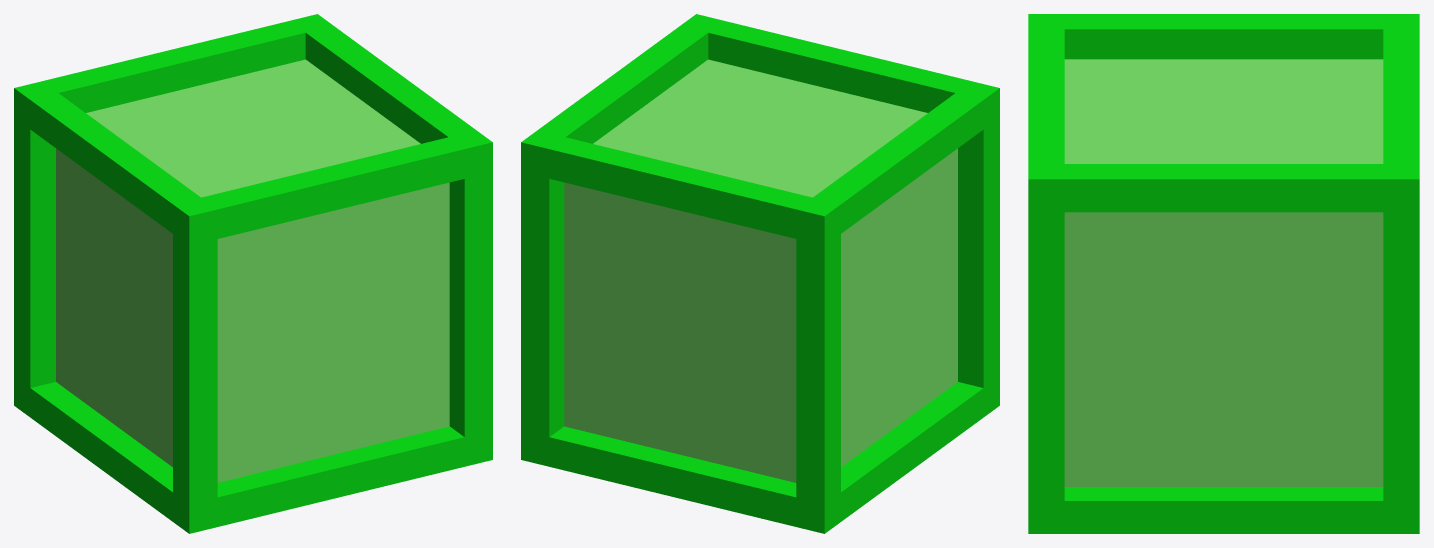
The model's file is greenbox.fbx.
3 renders of one model, left to right at view 1: azimuth 30°, elevation 25°; view 2: azimuth 150°, elevation 25°; view 3: azimuth 270°, elevation 25°, orthographic. The views are drawn at different scales.
Parts seen in each view (by area): view 1: Cube.001, Cube; view 2: Cube.001, Cube; view 3: Cube.001, Cube.
Part boxes in pixels (x1,y1,x2,y2): Cube.001: [56, 59, 449, 482]; Cube: [14, 14, 492, 533]; Cube.001: [564, 59, 957, 482]; Cube: [521, 14, 999, 533]; Cube.001: [1064, 59, 1383, 486]; Cube: [1028, 14, 1419, 533].
Size of the model in its own units: 136 by 136 by 136.
